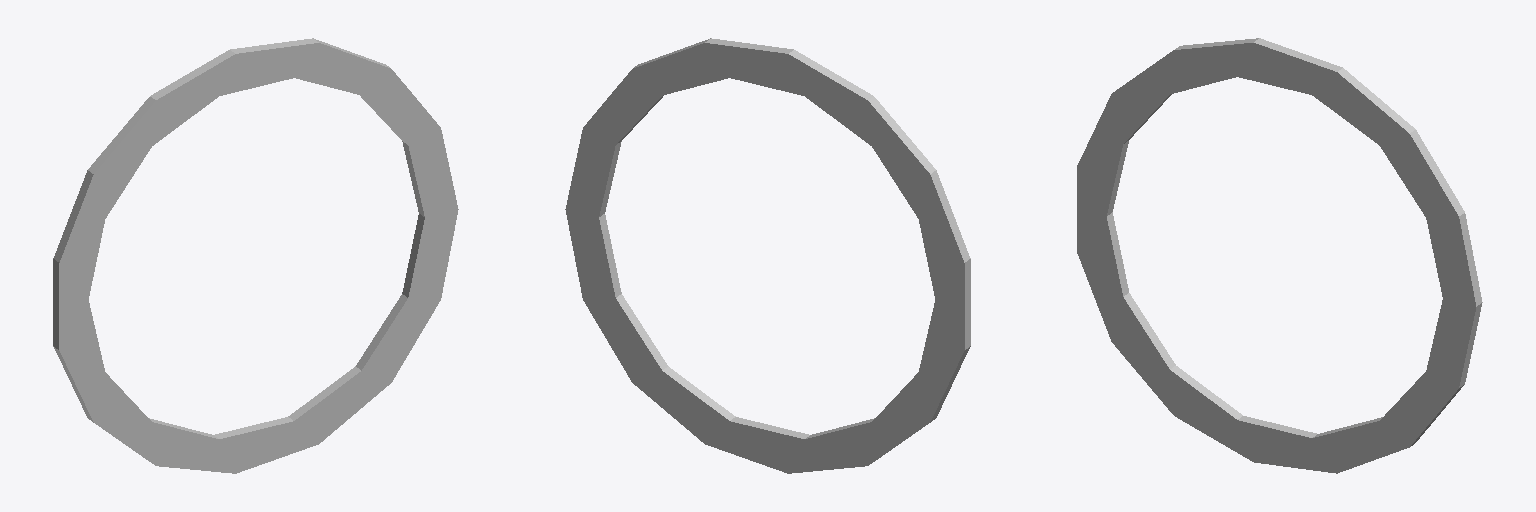
Rendered from 68. Шайба упорная.obj.
3 views of the same model, side by side, from view 1: azimuth 30°, elevation 25°; view 2: azimuth 150°, elevation 25°; view 3: azimuth 330°, elevation 25° (orthographic).
Visible parts, largest first — view 1: Твердое тело1; view 2: Твердое тело1; view 3: Твердое тело1.
Boxes of the visible parts, x1,y1,x2,y2 form: Твердое тело1: [53, 38, 458, 473]; Твердое тело1: [565, 38, 970, 473]; Твердое тело1: [1077, 38, 1482, 473].
Size of the model in its own units: 37.98 by 38.19 by 1.